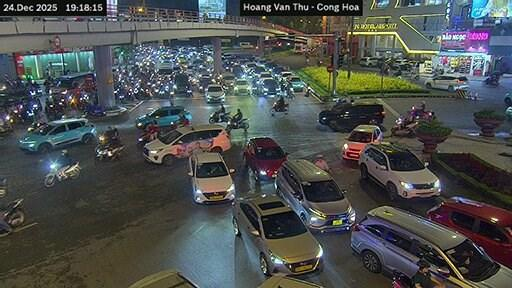motorbike: (390, 107, 434, 135), (0, 198, 25, 235), (44, 162, 80, 187), (390, 116, 418, 135), (95, 143, 122, 162), (393, 270, 412, 287), (227, 117, 248, 131), (83, 104, 105, 116), (210, 109, 230, 122), (268, 103, 288, 115), (137, 130, 150, 148), (0, 115, 12, 134), (26, 121, 44, 130), (483, 76, 498, 85), (0, 178, 6, 197), (284, 89, 294, 98), (316, 57, 322, 64)
